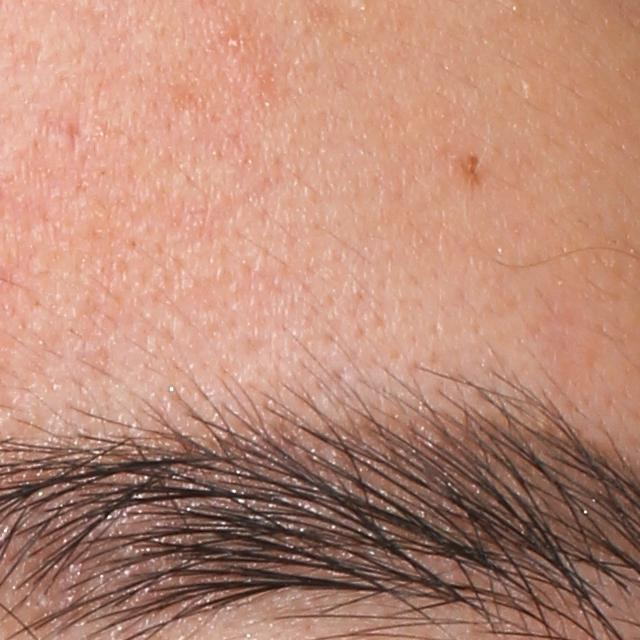nevus: (459, 152, 483, 183)
